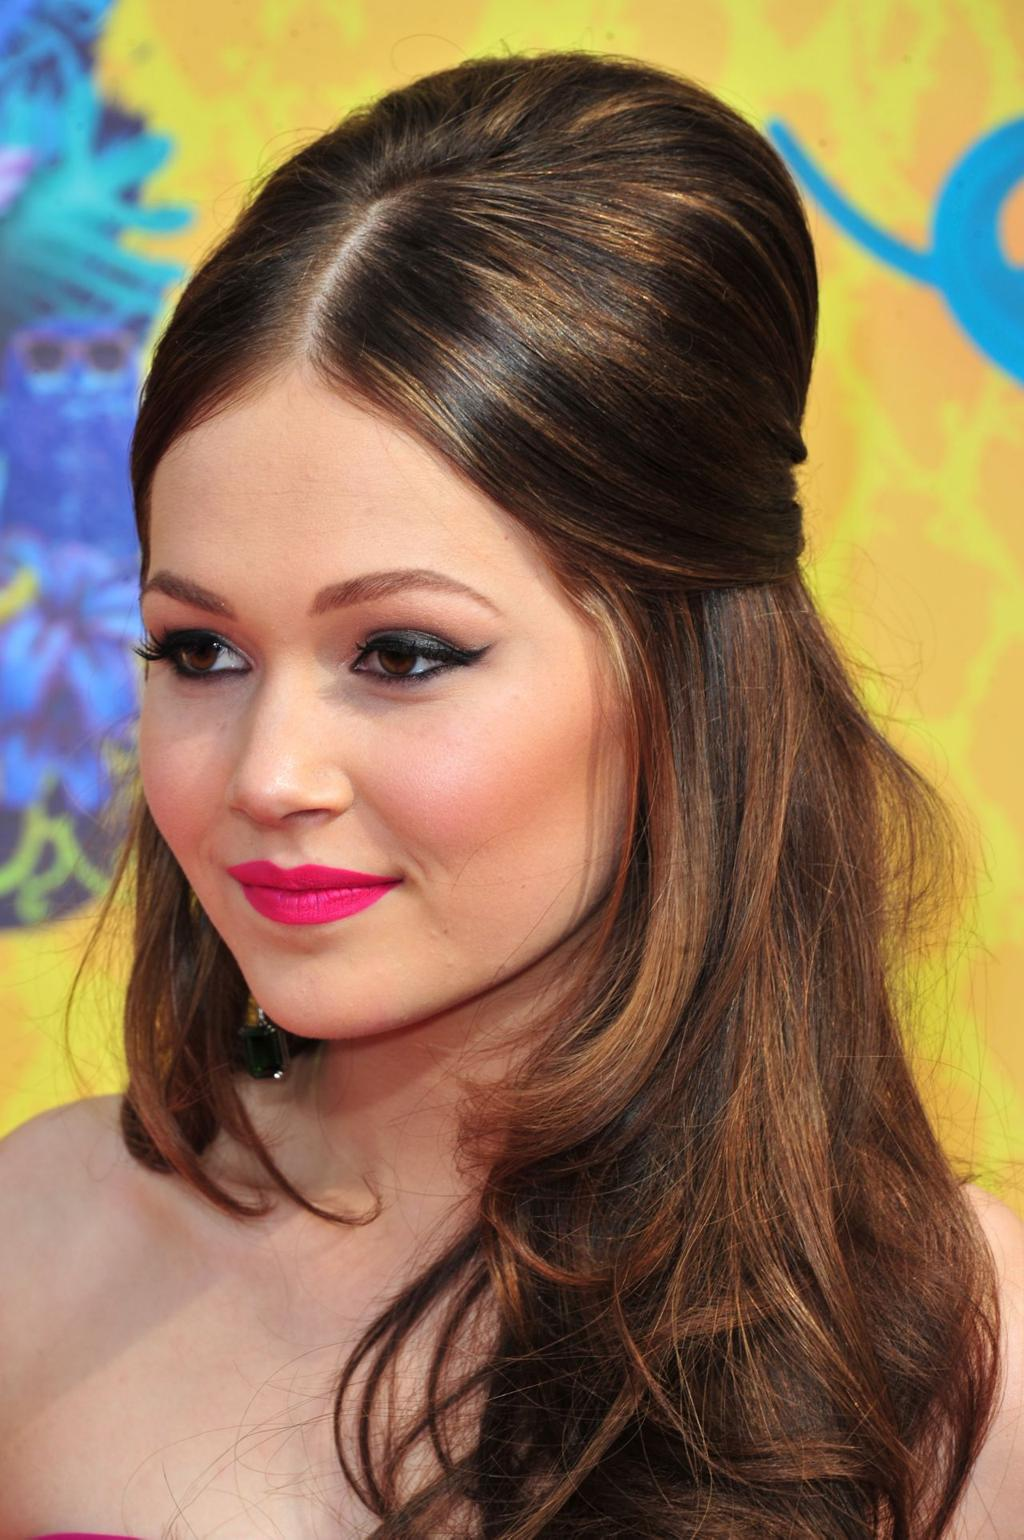face: (145, 382, 671, 1034)
